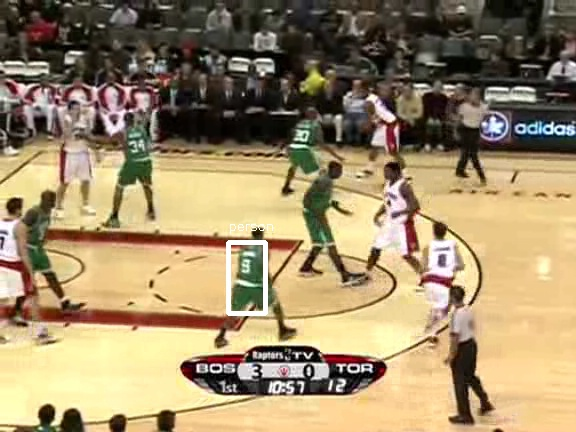person: (239, 238, 273, 319), (238, 238, 272, 319), (240, 238, 274, 319), (239, 237, 273, 318), (239, 239, 273, 320)
target_negative: (211, 76, 398, 259), (141, 80, 190, 267), (35, 317, 506, 325), (544, 50, 551, 274), (456, 164, 475, 217), (183, 154, 199, 196)
